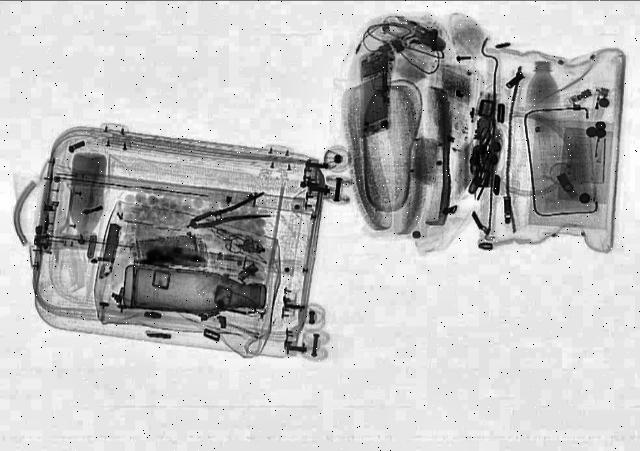Pliers: (182, 191, 280, 239)
